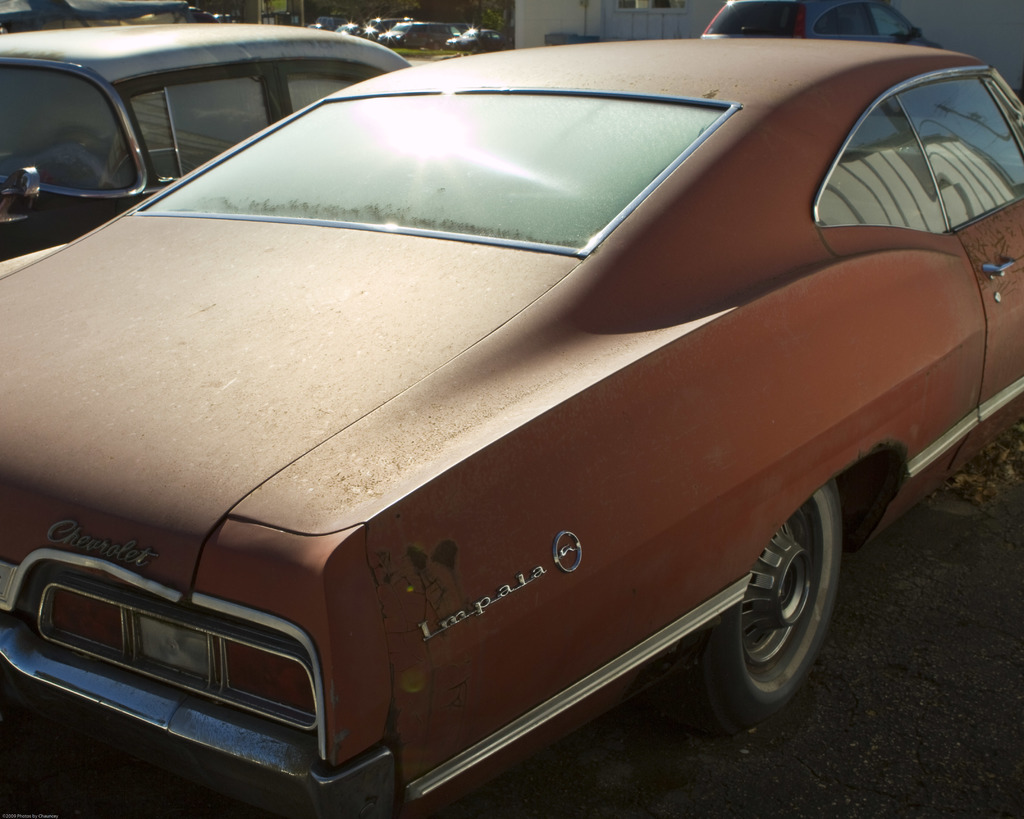cars: (10, 29, 973, 796), (0, 25, 412, 259), (695, 0, 942, 48)
